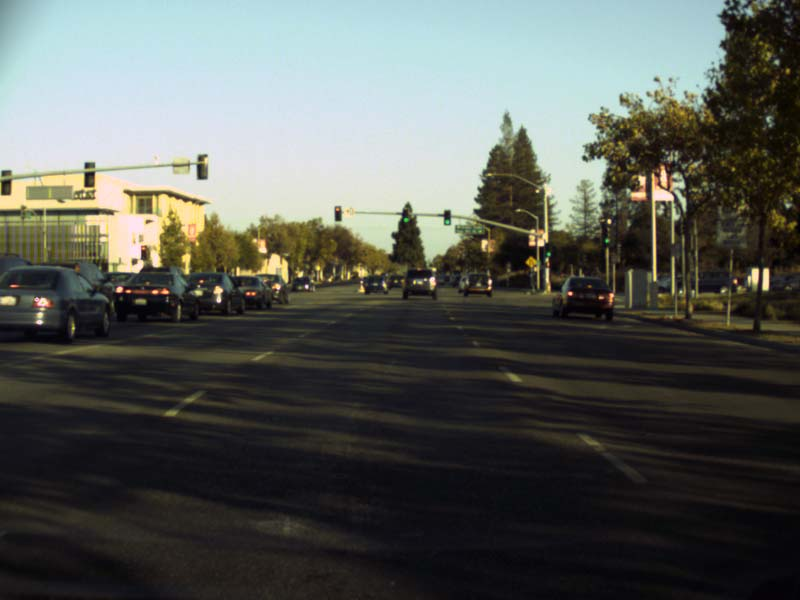Green: (602, 227, 611, 246), (443, 209, 451, 226), (401, 207, 409, 222), (544, 242, 552, 257)
Red: (334, 205, 342, 222), (140, 244, 148, 260)
